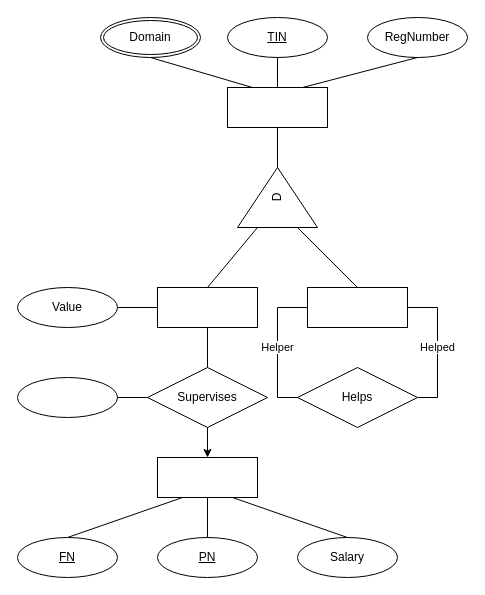
The diagram is 485 pixels wide and 595 high, and some of its shapes have lost their labels. The shapes that lost their labels are listed below. From the top down, each one's centre as x and y in pixels, then its label:
At pixel 277 107: "Company".
At pixel 207 307: "Big".
At pixel 357 307: "Small".
At pixel 67 397: "Start".
At pixel 207 477: "Manager".
